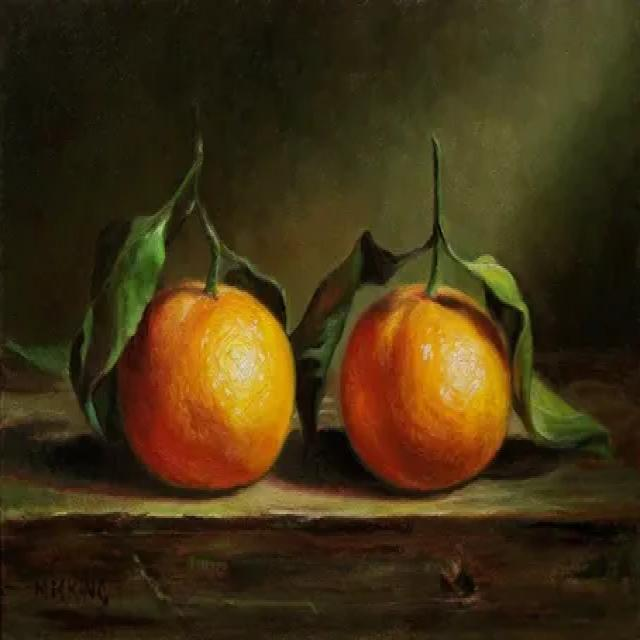orange: (99, 248, 305, 497)
